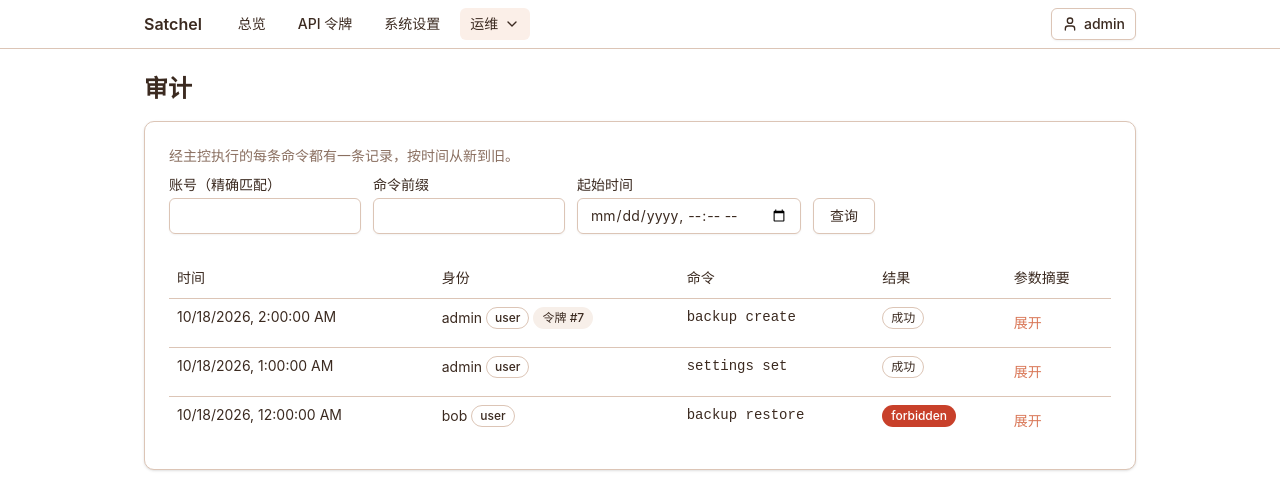
Test: 审计页 › 按命令前缀过滤：请求带 command=backup，只显示 backup 开头的记录；起始时间转成 RFC 3339
The width and height of the screenshot is (1280, 488).
Expected: the row with test id "audit-2" is shown, [169,347,1111,396]
Type "backup" into the field labelled "命令前缀".
click(469, 216); type("backup")  # box [373,198,565,234]
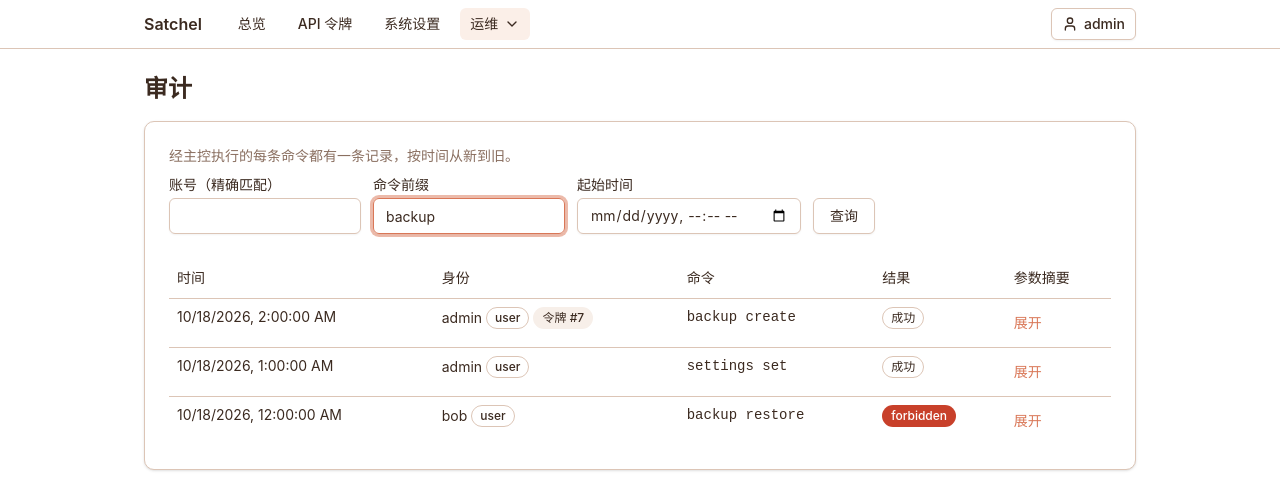
Type "2026-10-18T08:00" into the field labelled "起始时间".
click(689, 216); type("2026-10-18T08:00")  # box [577,198,801,234]
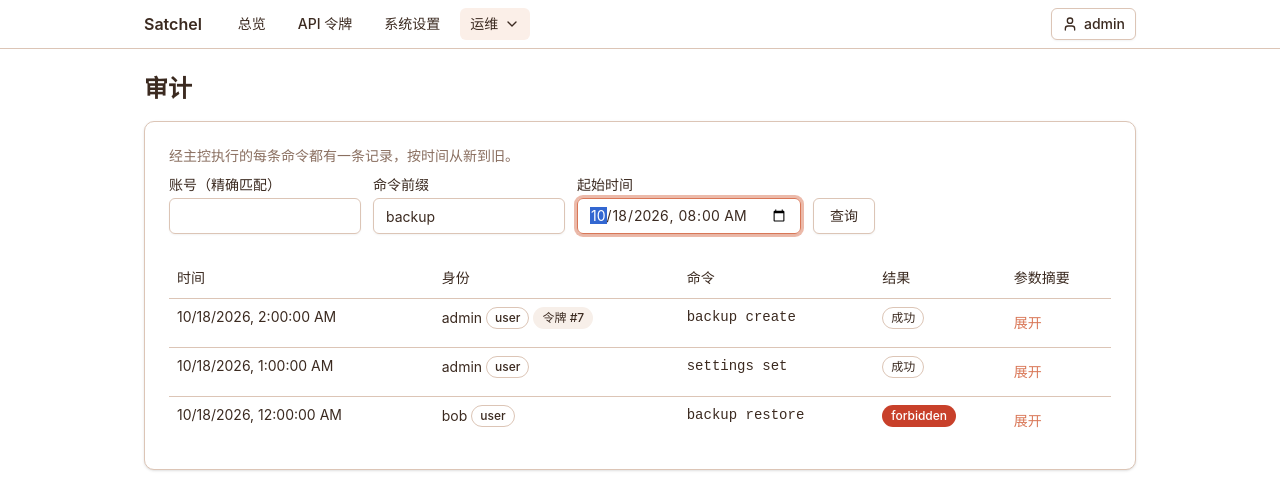
Click the button "查询".
click(844, 216)  # box [813,198,875,234]
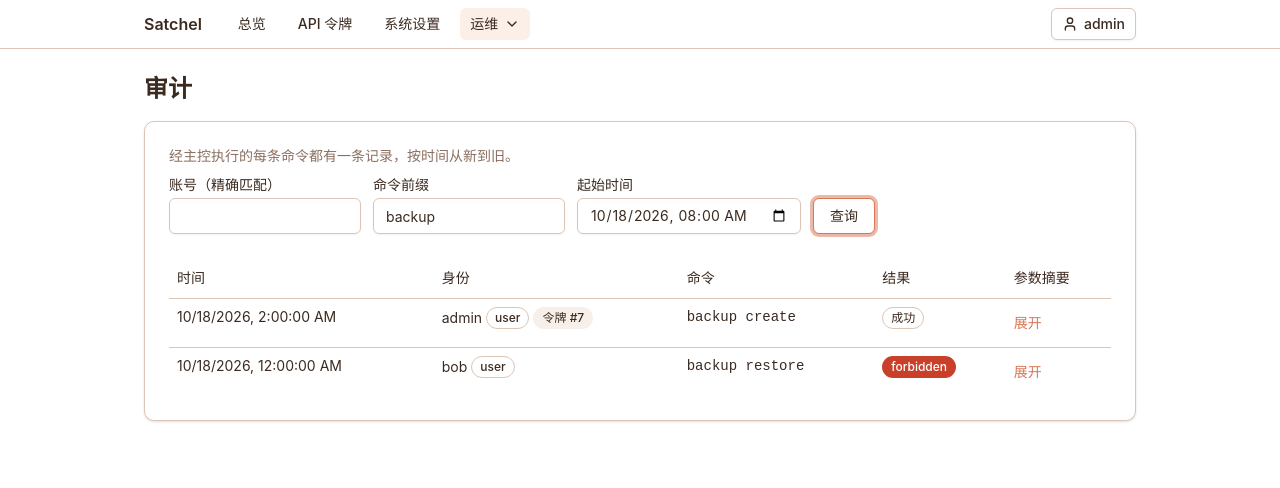
Expected: the row with test id "audit-3" is shown, [169,298,1111,347]
Expected: the row with test id "audit-2" is gone
